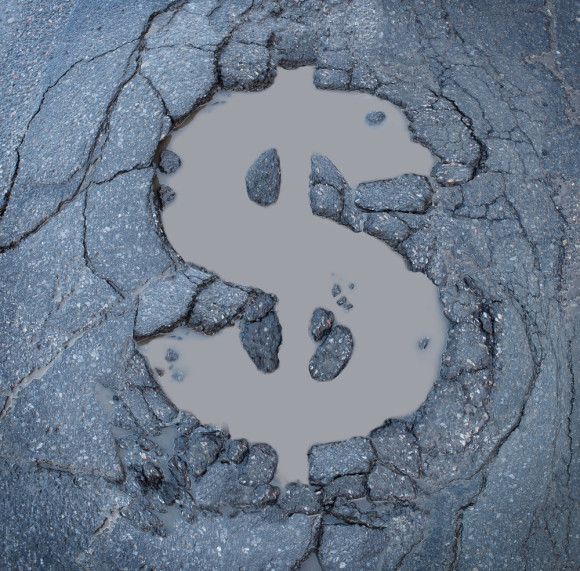pothole: (114, 46, 462, 519)
